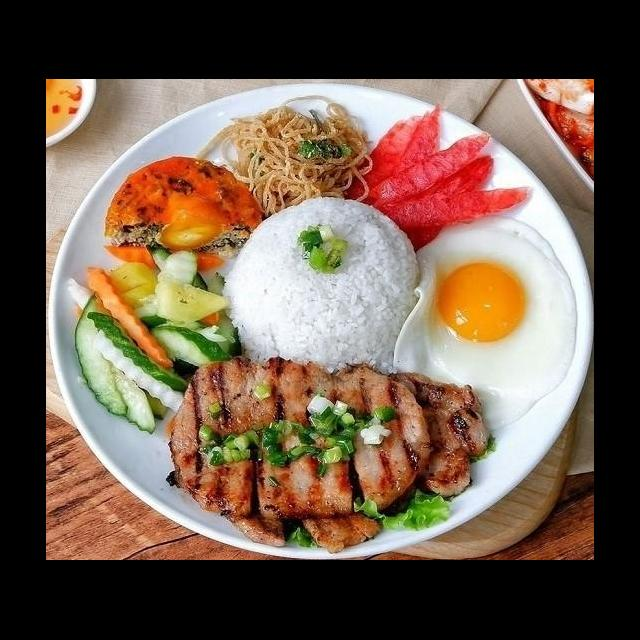bi: (192, 90, 377, 220)
com: (218, 195, 423, 384)
com suon bi trung: (48, 108, 594, 553)
dua chua: (64, 240, 245, 414)
suon: (162, 368, 495, 556), (166, 352, 436, 522)
trung: (389, 212, 582, 440), (100, 152, 269, 274)
